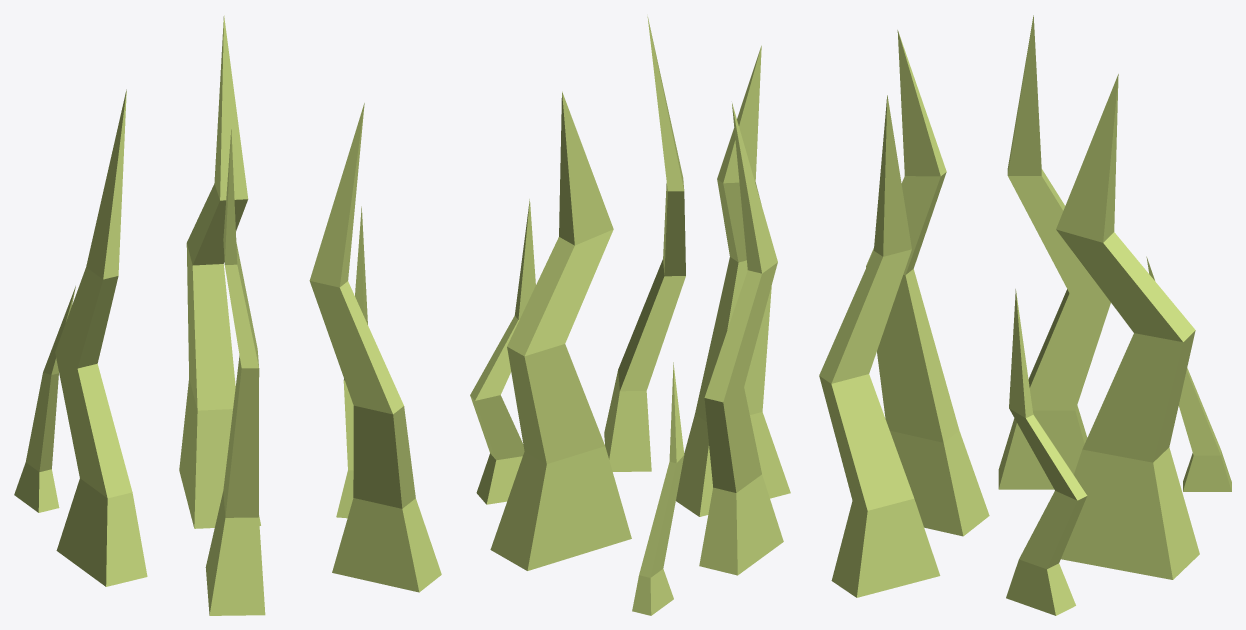
The model's file is grass3.glb.
3 views of the same model, side by side, from view 1: azimuth 30°, elevation 25°; view 2: azimuth 150°, elevation 25°; view 3: azimuth 270°, elevation 25° (orthographic). The views are drawn at different scales.
Parts seen in each view (by area): view 1: Grass3; view 2: Grass3; view 3: Grass3.
Boxes of the visible parts, left/top/right/bottom form: Grass3: left=14, top=15, right=441, bottom=615; Grass3: left=470, top=16, right=790, bottom=615; Grass3: left=819, top=15, right=1231, bottom=615.
Size of the model in its own units: 0.2128 by 0.3274 by 0.2537.
